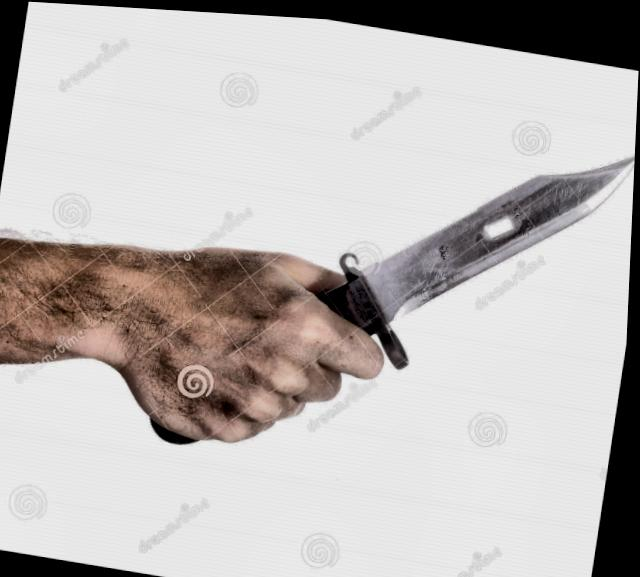knife: (216, 81, 638, 469)
